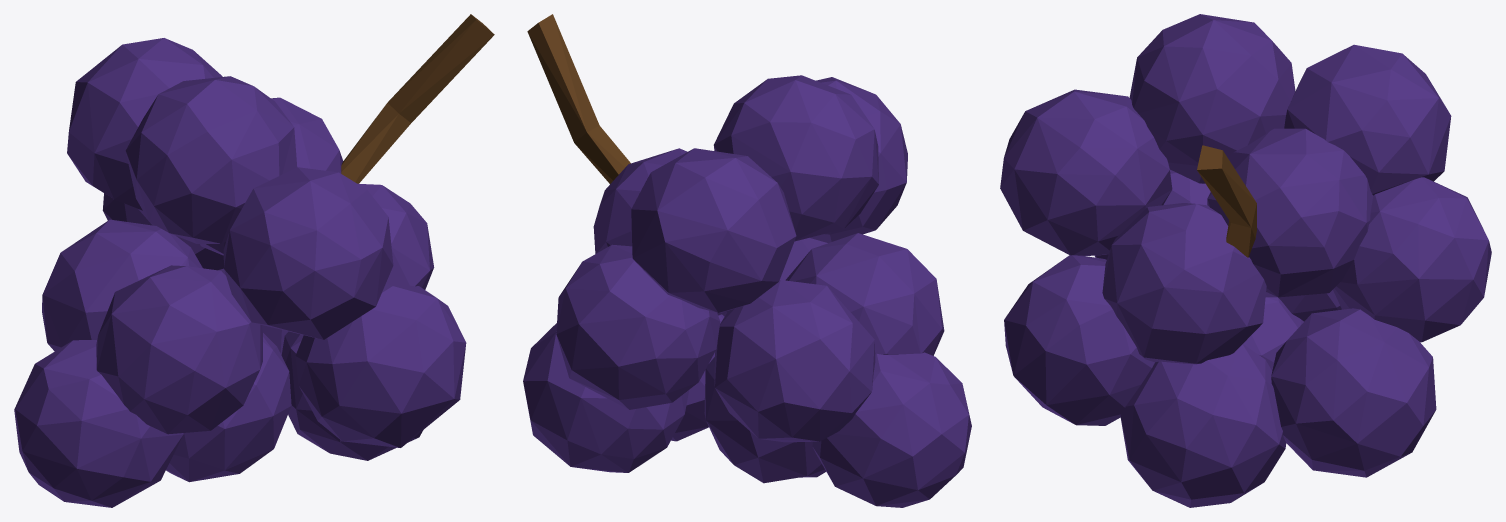
Rendered from SM_Grapes_01.fbx.
3 views of the same model, side by side, from view 1: azimuth 30°, elevation 25°; view 2: azimuth 150°, elevation 25°; view 3: azimuth 270°, elevation 25° (orthographic). The views are drawn at different scales.
Visible parts, largest first — view 1: Sphere; view 2: Sphere; view 3: Sphere.
Part boxes in pixels (x1,y1,x2,y2): Sphere: [14, 14, 494, 507]; Sphere: [523, 14, 971, 507]; Sphere: [1000, 14, 1491, 507].
Size of the model in its own units: 0.239 by 0.2021 by 0.2196.
